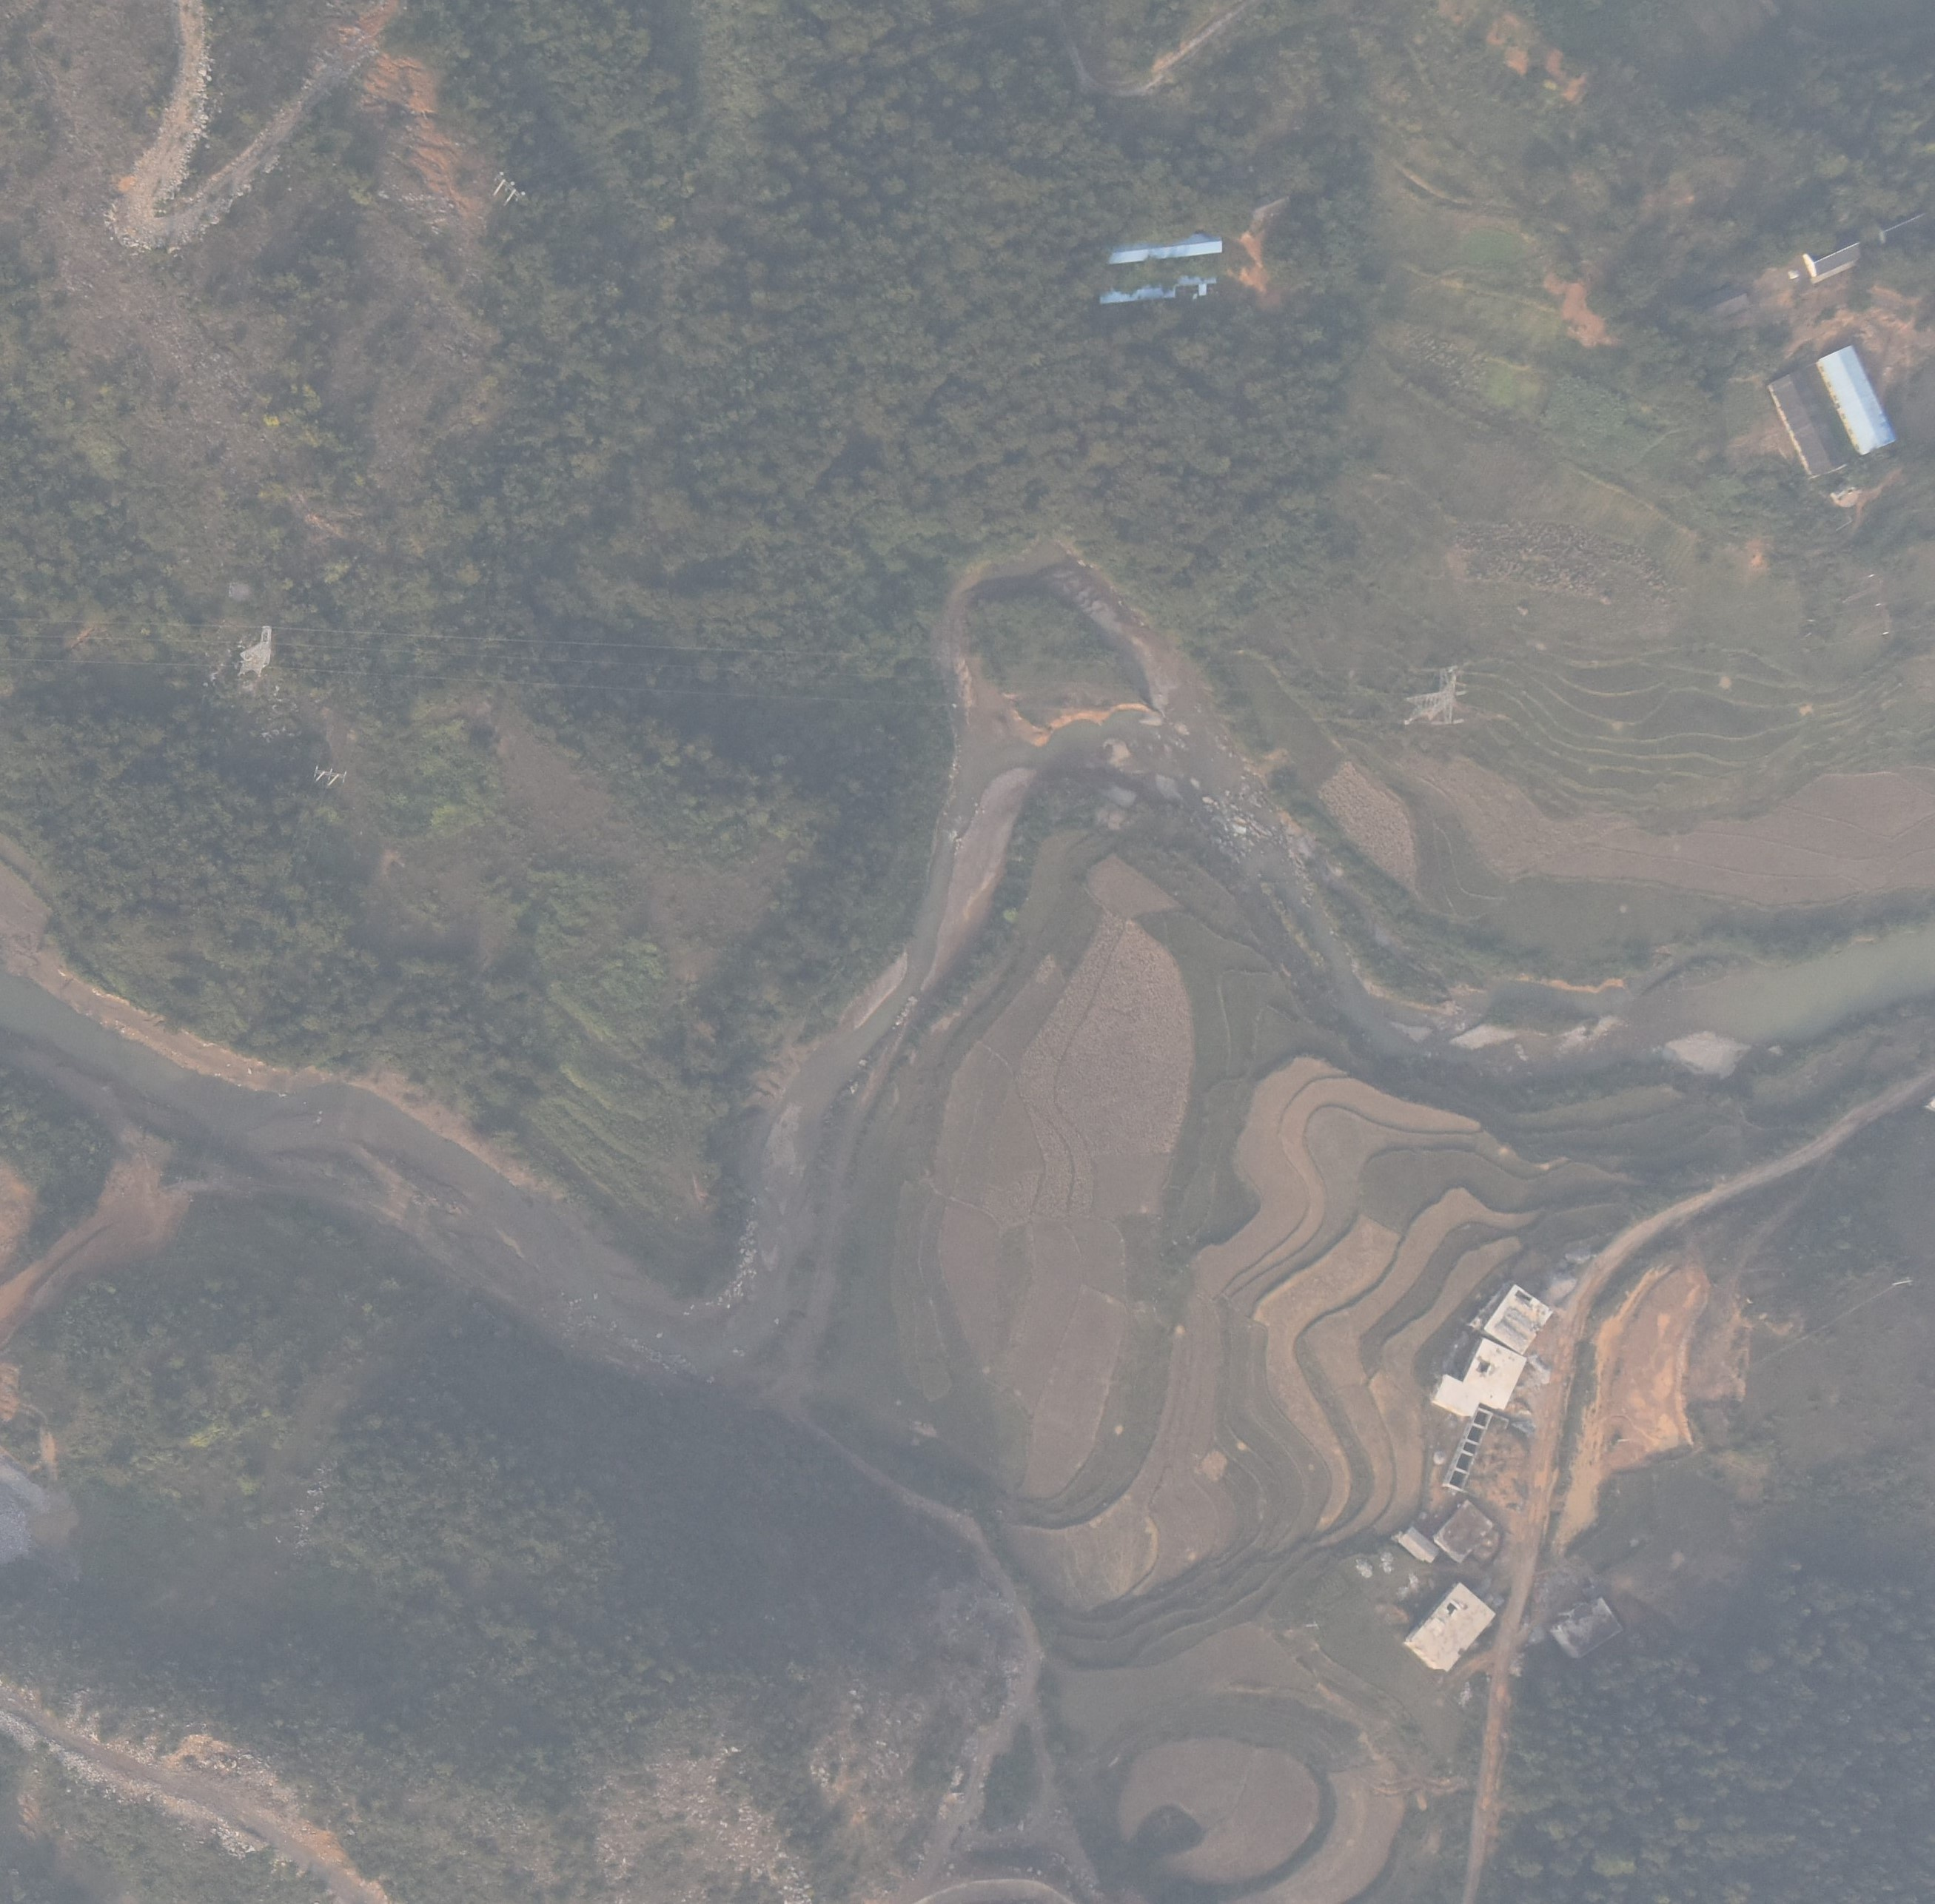building: (1397, 1580, 1502, 1677), (1481, 1278, 1555, 1358), (1460, 1336, 1526, 1412), (1555, 1599, 1628, 1653), (1435, 1501, 1495, 1562), (1800, 234, 1868, 285), (1686, 285, 1760, 321), (1435, 1367, 1481, 1420), (1400, 1523, 1445, 1563), (1879, 209, 1923, 238)
cable-tower: (1392, 663, 1467, 729), (235, 625, 280, 674), (483, 171, 531, 211), (306, 760, 352, 791)
prefabricated-house: (1764, 363, 1861, 481), (1819, 340, 1903, 453), (1104, 225, 1232, 275), (1094, 271, 1224, 303)
